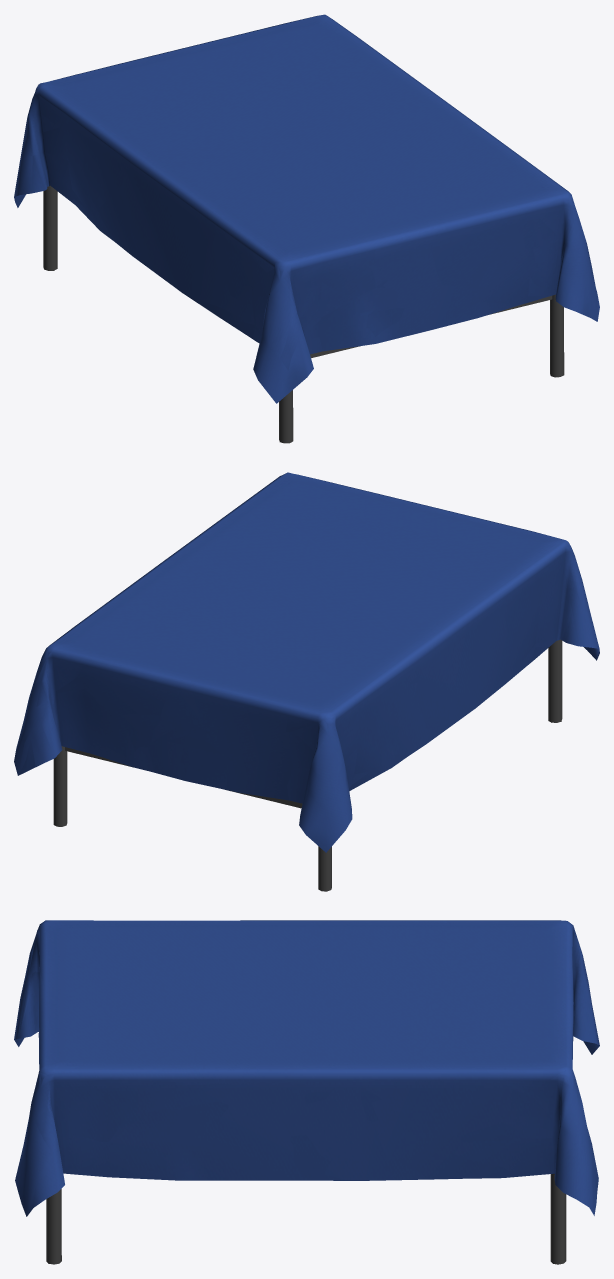
The model's file is pi_tabel01_05_05.gltf.
3 renders of one model, top to bottom at view 1: azimuth 30°, elevation 25°; view 2: azimuth 150°, elevation 25°; view 3: azimuth 270°, elevation 25°, orthographic. The views are drawn at different scales.
Parts seen in each view (by area): view 1: um_pi_tabel01_05_05_model_lod2Shape:pi_tabel01_cloth01_01_01, um_pi_tabel01_05_05_model_lod0Shape:pi_tabel01_cloth01_01_01, um_pi_tabel01_05_05_model_lod1Shape:pi_tabel01_cloth01_01_01, um_pi_tabel01_05_05_model_lod0Shape:pi_tabel01_01, um_pi_tabel01_05_05_model_lod2Shape:pi_tabel01_01, um_pi_tabel01_05_05_model_lod1Shape:pi_tabel01_01; view 2: um_pi_tabel01_05_05_model_lod0Shape:pi_tabel01_cloth01_01_01, um_pi_tabel01_05_05_model_lod2Shape:pi_tabel01_cloth01_01_01, um_pi_tabel01_05_05_model_lod1Shape:pi_tabel01_cloth01_01_01, um_pi_tabel01_05_05_model_lod0Shape:pi_tabel01_01, um_pi_tabel01_05_05_model_lod2Shape:pi_tabel01_01, um_pi_tabel01_05_05_model_lod1Shape:pi_tabel01_01; view 3: um_pi_tabel01_05_05_model_lod2Shape:pi_tabel01_cloth01_01_01, um_pi_tabel01_05_05_model_lod0Shape:pi_tabel01_cloth01_01_01, um_pi_tabel01_05_05_model_lod1Shape:pi_tabel01_cloth01_01_01, um_pi_tabel01_05_05_model_lod1Shape:pi_tabel01_01, um_pi_tabel01_05_05_model_lod2Shape:pi_tabel01_01, um_pi_tabel01_05_05_model_lod0Shape:pi_tabel01_01.
Boxes of the visible parts, x1,y1,x2,y2 form: um_pi_tabel01_05_05_model_lod2Shape:pi_tabel01_cloth01_01_01: (14,14,599,403); um_pi_tabel01_05_05_model_lod0Shape:pi_tabel01_cloth01_01_01: (14,16,595,403); um_pi_tabel01_05_05_model_lod1Shape:pi_tabel01_cloth01_01_01: (23,17,588,351); um_pi_tabel01_05_05_model_lod0Shape:pi_tabel01_01: (43,187,560,443); um_pi_tabel01_05_05_model_lod2Shape:pi_tabel01_01: (43,185,564,443); um_pi_tabel01_05_05_model_lod1Shape:pi_tabel01_01: (43,187,563,441); um_pi_tabel01_05_05_model_lod0Shape:pi_tabel01_cloth01_01_01: (14,472,599,852); um_pi_tabel01_05_05_model_lod2Shape:pi_tabel01_cloth01_01_01: (14,472,599,852); um_pi_tabel01_05_05_model_lod1Shape:pi_tabel01_cloth01_01_01: (37,478,595,829); um_pi_tabel01_05_05_model_lod0Shape:pi_tabel01_01: (54,639,562,891); um_pi_tabel01_05_05_model_lod2Shape:pi_tabel01_01: (55,640,561,891); um_pi_tabel01_05_05_model_lod1Shape:pi_tabel01_01: (53,652,556,890); um_pi_tabel01_05_05_model_lod2Shape:pi_tabel01_cloth01_01_01: (14,920,599,1216); um_pi_tabel01_05_05_model_lod0Shape:pi_tabel01_cloth01_01_01: (14,920,599,1213); um_pi_tabel01_05_05_model_lod1Shape:pi_tabel01_cloth01_01_01: (28,920,599,1198); um_pi_tabel01_05_05_model_lod1Shape:pi_tabel01_01: (46,1174,565,1264); um_pi_tabel01_05_05_model_lod2Shape:pi_tabel01_01: (47,1173,566,1264); um_pi_tabel01_05_05_model_lod0Shape:pi_tabel01_01: (46,1174,565,1264).
Bounding box in the file's own units: 1.5 × 0.7608 × 2.06.
Materials: 2 (2 with a texture image).
